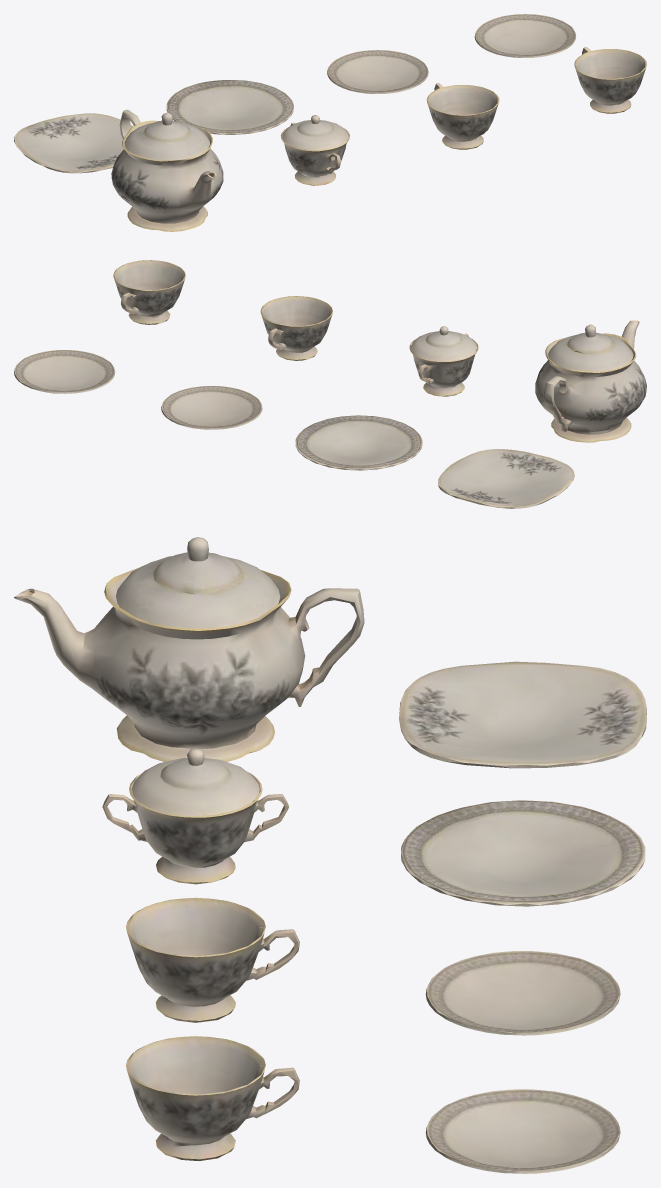
File: tea_set_01.glb
3 views of the same model, one above another, from view 1: azimuth 30°, elevation 25°; view 2: azimuth 150°, elevation 25°; view 3: azimuth 270°, elevation 25° (orthographic). The views are drawn at different scales.
Visible parts, largest first — view 1: tea_set_01_lod0; view 2: tea_set_01_lod0; view 3: tea_set_01_lod0.
Boxes of the visible parts, box(x1,y1,x2,y2) form: tea_set_01_lod0: box(14, 14, 646, 231); tea_set_01_lod0: box(14, 260, 646, 508); tea_set_01_lod0: box(14, 537, 646, 1173).
Size of what is drawn, in the model's own units: 0.9183 by 0.1652 by 0.4833.
Materials: 1 (1 with a texture image).
